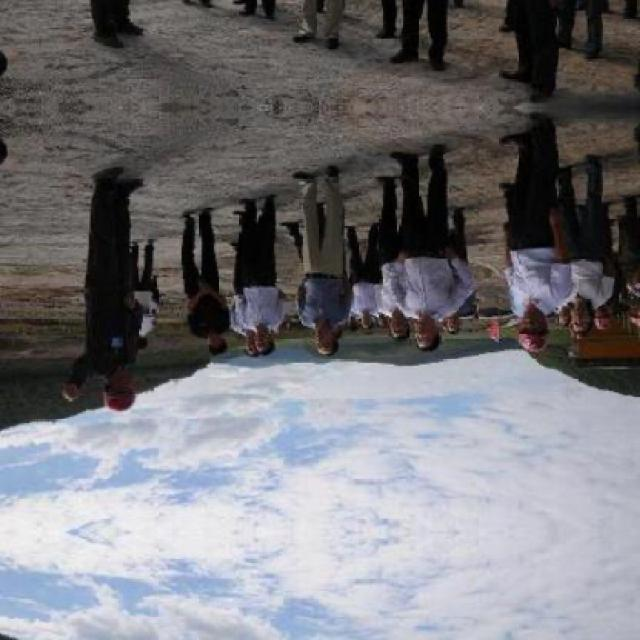con casco: (77, 367, 164, 424), (505, 298, 551, 359)
sin casco: (284, 298, 364, 351), (230, 320, 288, 358), (404, 319, 462, 343)
